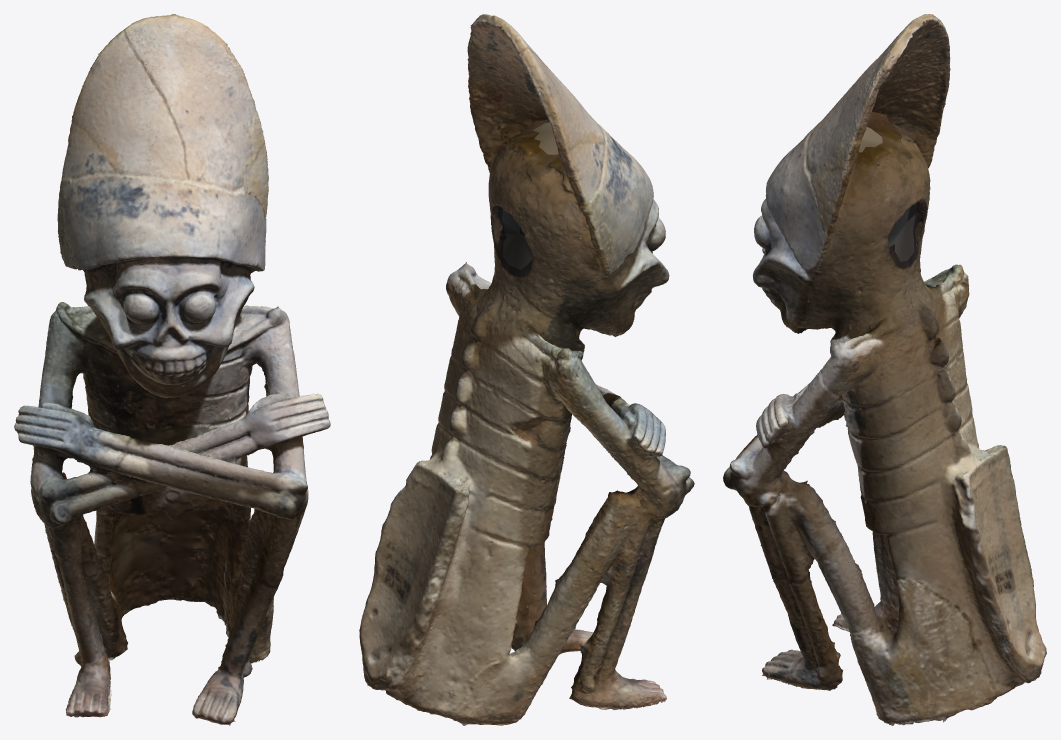
The model's file is mictlantecuhtli.glb.
3 views of the same model, side by side, from view 1: azimuth 30°, elevation 25°; view 2: azimuth 150°, elevation 25°; view 3: azimuth 270°, elevation 25° (orthographic). The views are drawn at different scales.
Visible parts, largest first — view 1: model_tex_u1_v1_0.001, model_tex_u1_v1_0.004, model, model_tex_u1_v1_0.002, model_tex_u1_v1_0.003, model_tex_u1_v1_0.005; view 2: model, model_tex_u1_v1_0.005, model_tex_u1_v1_0.002, model_tex_u1_v1_0.004, model_tex_u1_v1_0.001, model_tex_u1_v1_0.003; view 3: model, model_tex_u1_v1_0.002, model_tex_u1_v1_0.003, model_tex_u1_v1_0.001, model_tex_u1_v1_0.005, model_tex_u1_v1_0.004.
Boxes of the visible parts, bbox=[...] form: model_tex_u1_v1_0.001: bbox=[55, 18, 330, 525]; model_tex_u1_v1_0.004: bbox=[16, 103, 268, 552]; model: bbox=[18, 34, 284, 620]; model_tex_u1_v1_0.002: bbox=[53, 84, 329, 717]; model_tex_u1_v1_0.003: bbox=[49, 14, 291, 725]; model_tex_u1_v1_0.005: bbox=[14, 88, 201, 542]; model: bbox=[359, 20, 694, 690]; model_tex_u1_v1_0.005: bbox=[381, 70, 675, 561]; model_tex_u1_v1_0.002: bbox=[359, 66, 666, 725]; model_tex_u1_v1_0.004: bbox=[416, 86, 692, 562]; model_tex_u1_v1_0.001: bbox=[446, 16, 622, 495]; model_tex_u1_v1_0.003: bbox=[359, 14, 655, 714]; model: bbox=[784, 19, 1046, 679]; model_tex_u1_v1_0.002: bbox=[723, 68, 1045, 725]; model_tex_u1_v1_0.003: bbox=[760, 14, 1041, 723]; model_tex_u1_v1_0.001: bbox=[725, 22, 978, 532]; model_tex_u1_v1_0.005: bbox=[878, 49, 1018, 558]; model_tex_u1_v1_0.004: bbox=[756, 79, 1018, 553].
Bounding box in the file's own units: 0.1544 × 0.3812 × 0.1685.
Materials: 1 (1 with a texture image).
